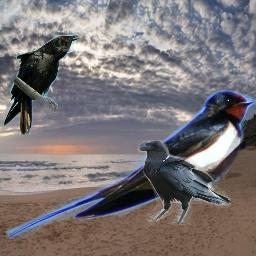Crow: (137, 140, 231, 225), (3, 34, 79, 136)
Swallow: (4, 90, 256, 239)
